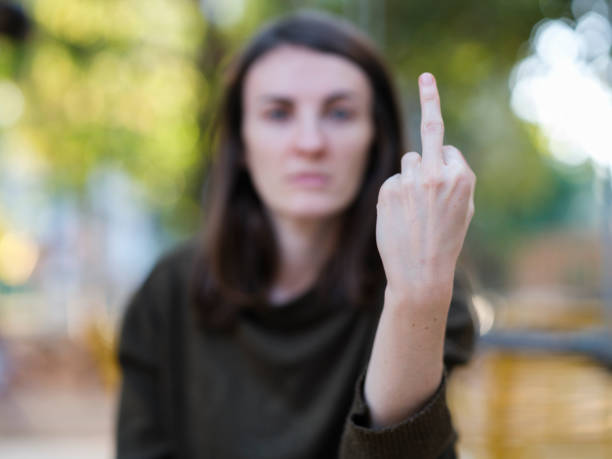insulting_gesture: (374, 67, 477, 289)
